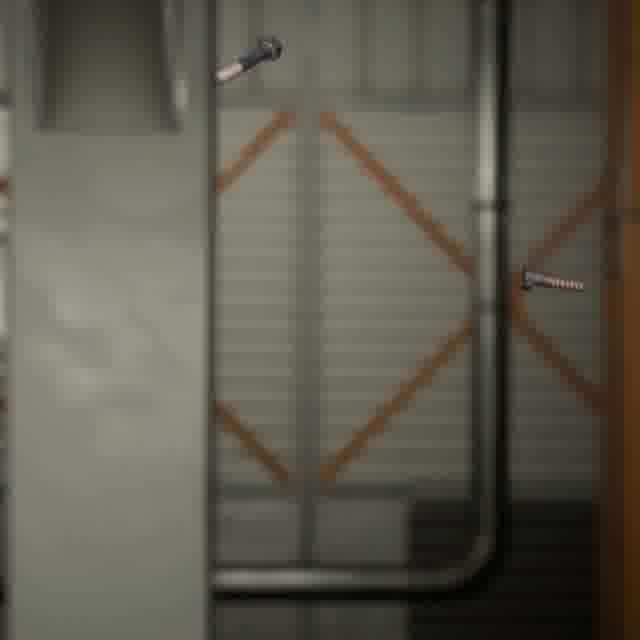bolt: (207, 30, 286, 91), (515, 259, 593, 296)
